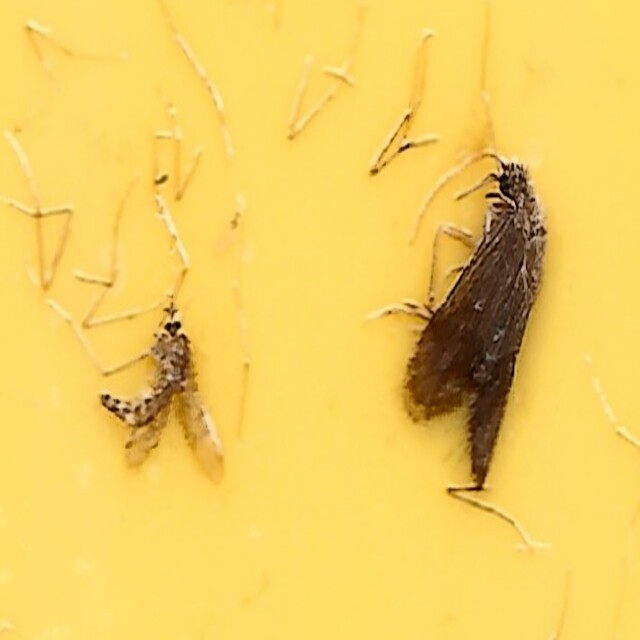Nematocera: (90, 302, 228, 490)
Trichoptera: (398, 150, 550, 490)
